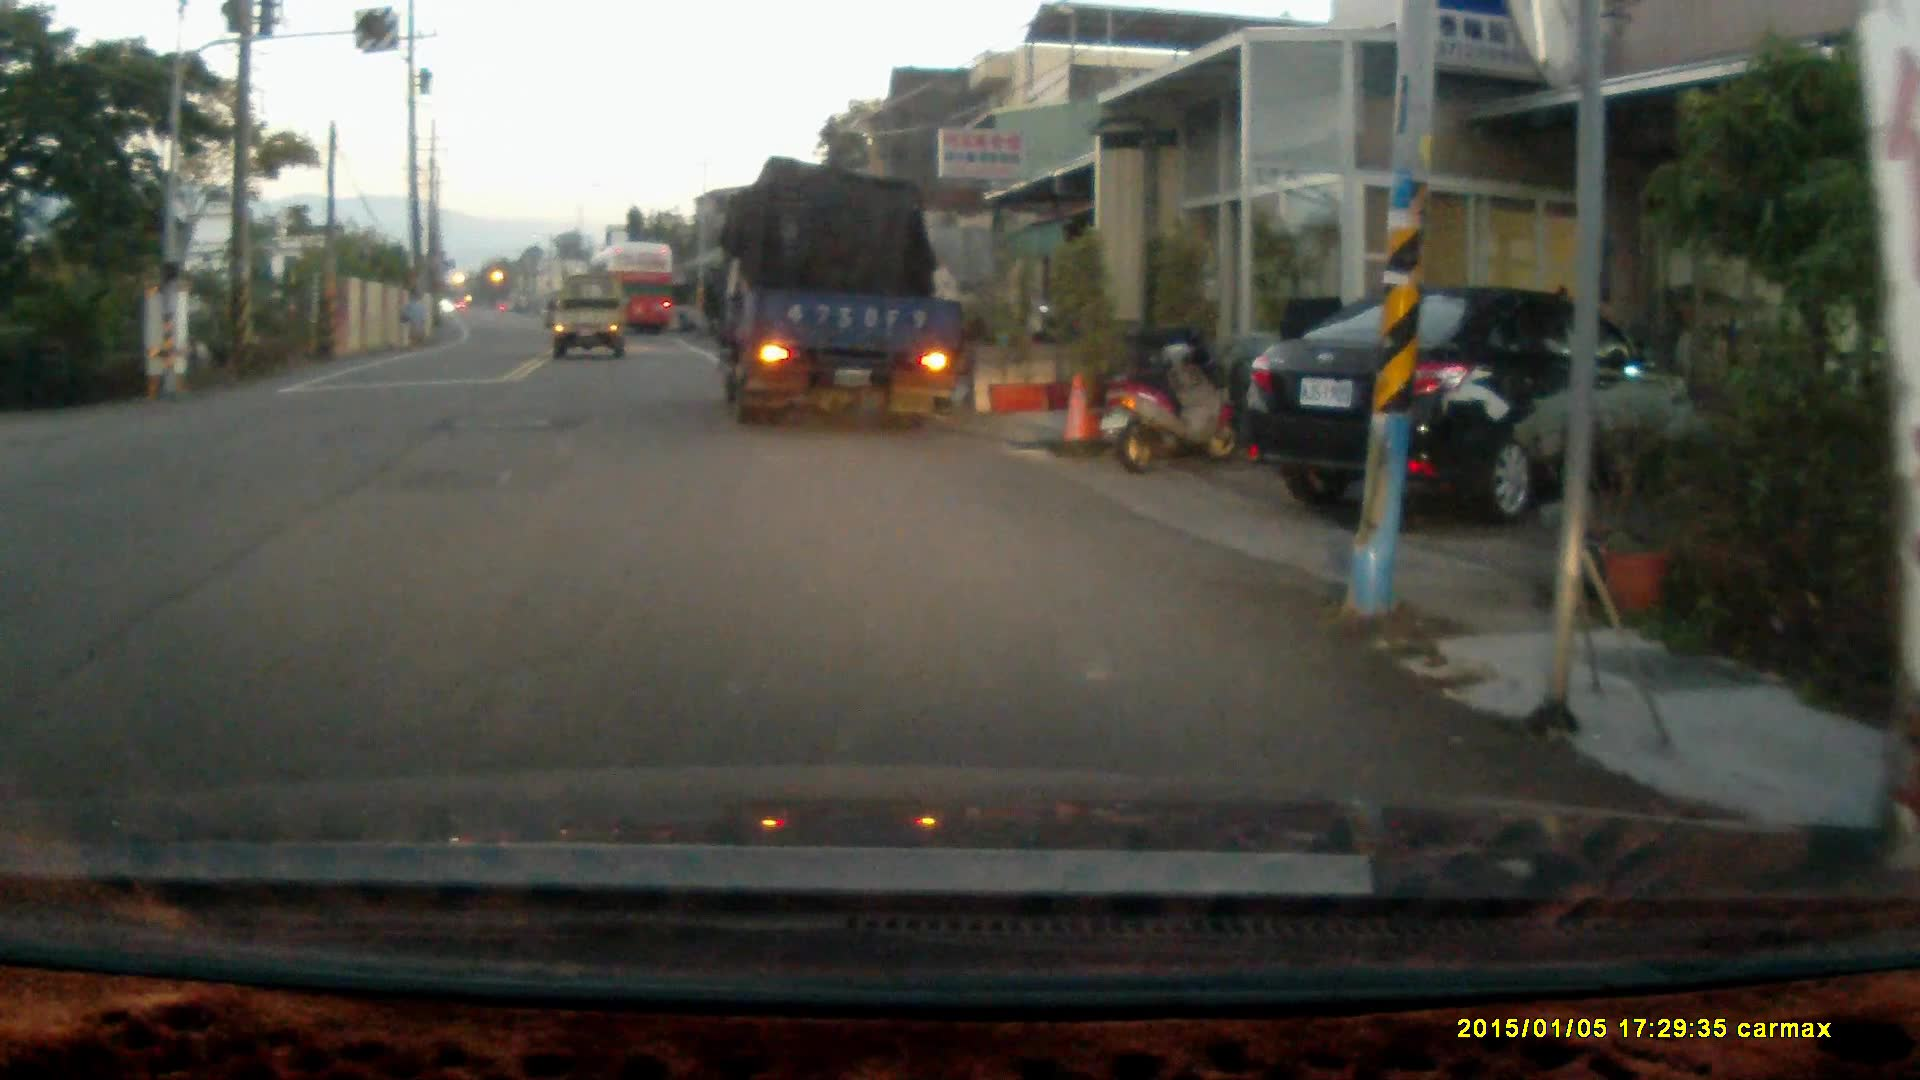vehicle: (1245, 280, 1695, 521), (700, 165, 967, 423), (591, 239, 679, 338), (553, 284, 626, 363)
